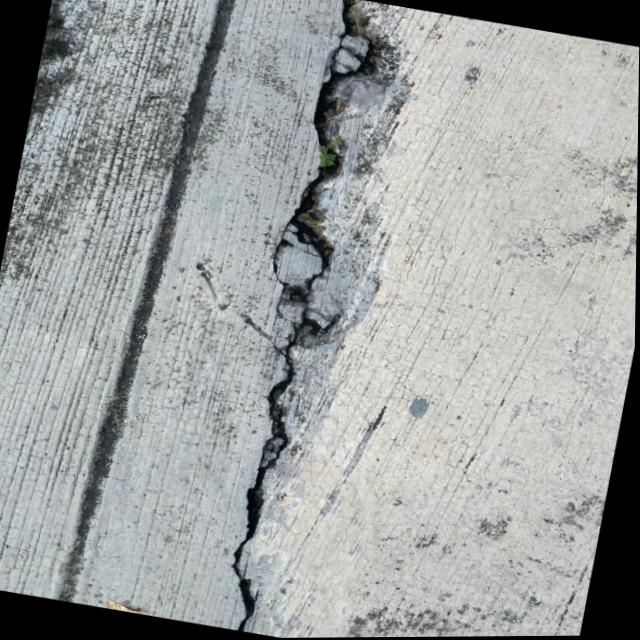Crack: (180, 0, 415, 639)
